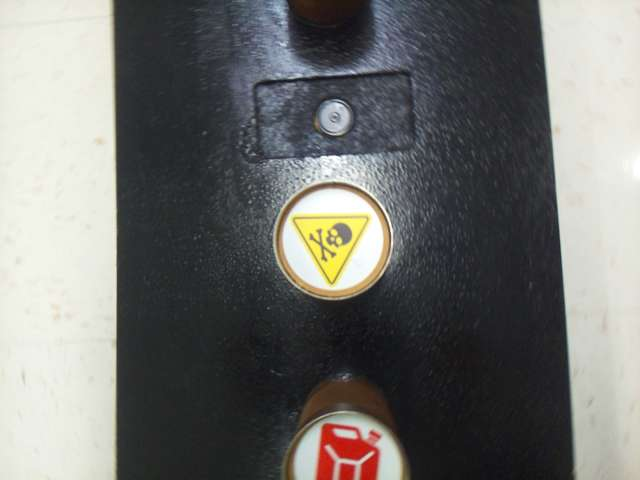gasoline: (295, 415, 401, 479)
toxic_fluid: (284, 190, 382, 288)
